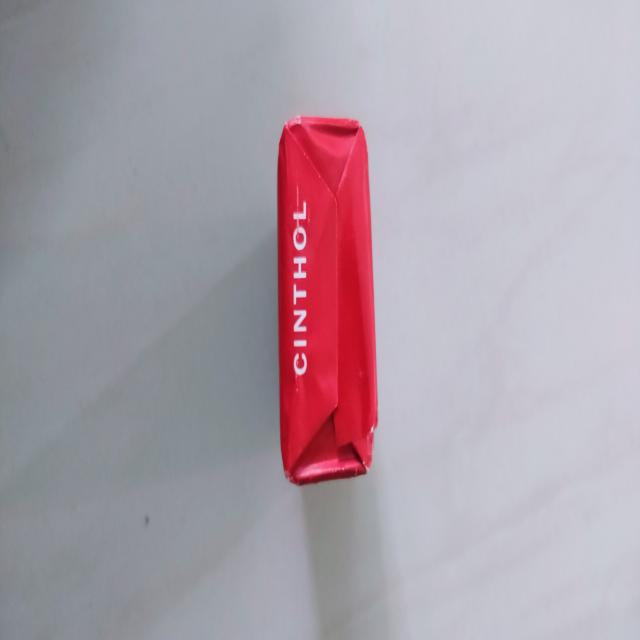soap: (276, 119, 382, 486)
